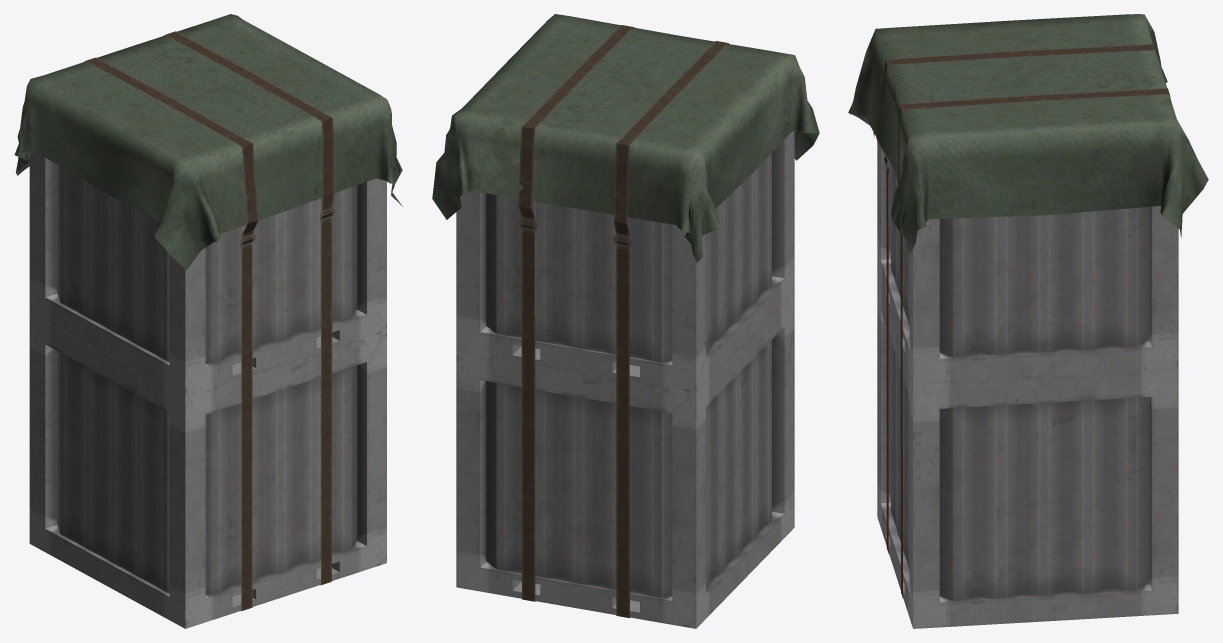
File: ItemSpot.fbx
3 views of the same model, side by side, from view 1: azimuth 30°, elevation 25°; view 2: azimuth 150°, elevation 25°; view 3: azimuth 270°, elevation 25° (orthographic). The views are drawn at different scales.
Parts seen in each view (by area): view 1: ItemBox_SteelBox_03; view 2: ItemBox_SteelBox_03; view 3: ItemBox_SteelBox_03.
Part boxes in pixels (left/top/right/bottom): ItemBox_SteelBox_03: left=14, top=14, right=402, bottom=628; ItemBox_SteelBox_03: left=432, top=14, right=819, bottom=628; ItemBox_SteelBox_03: left=848, top=14, right=1208, bottom=628.
Size of the model in its own units: 1.29 by 2.01 by 1.34.
1 material, 1 textured.
